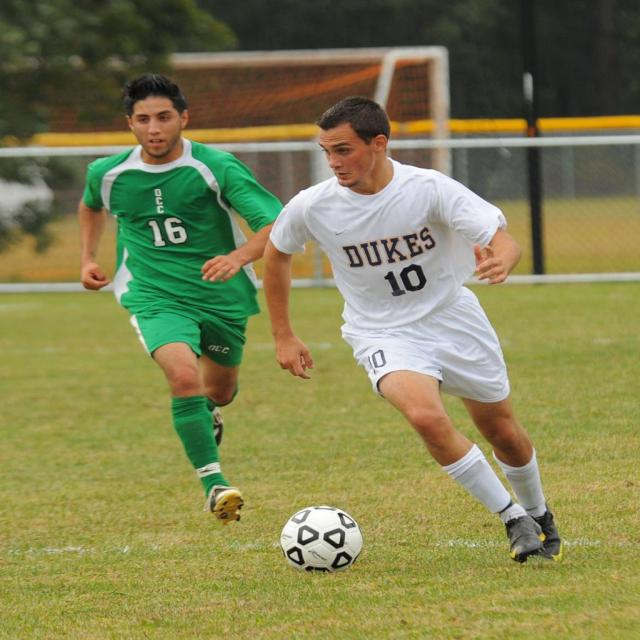Face: (306, 119, 391, 191), (119, 85, 187, 156)
